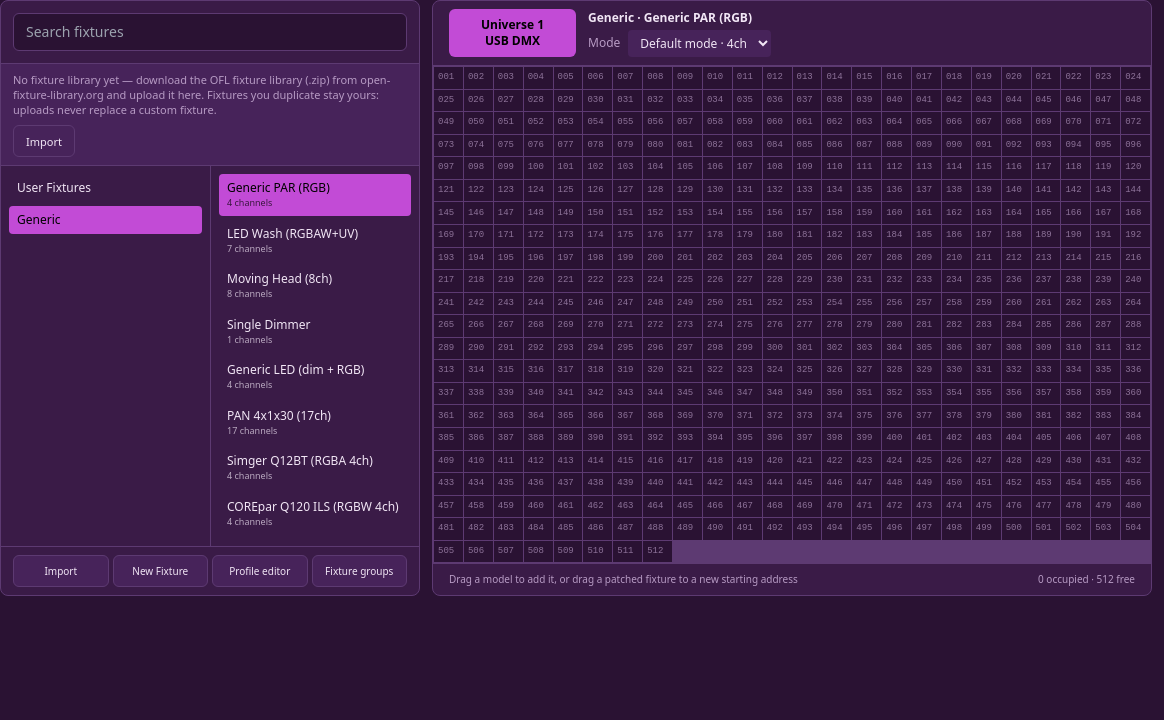
Test case: PatchPanel fixture library › User Fixtures shows a hint when there are no custom fixtures yet
The image size is (1164, 720).
Click the button "User Fixtures".
click(106, 188)  # box x1=9 y1=174 x2=202 y2=202
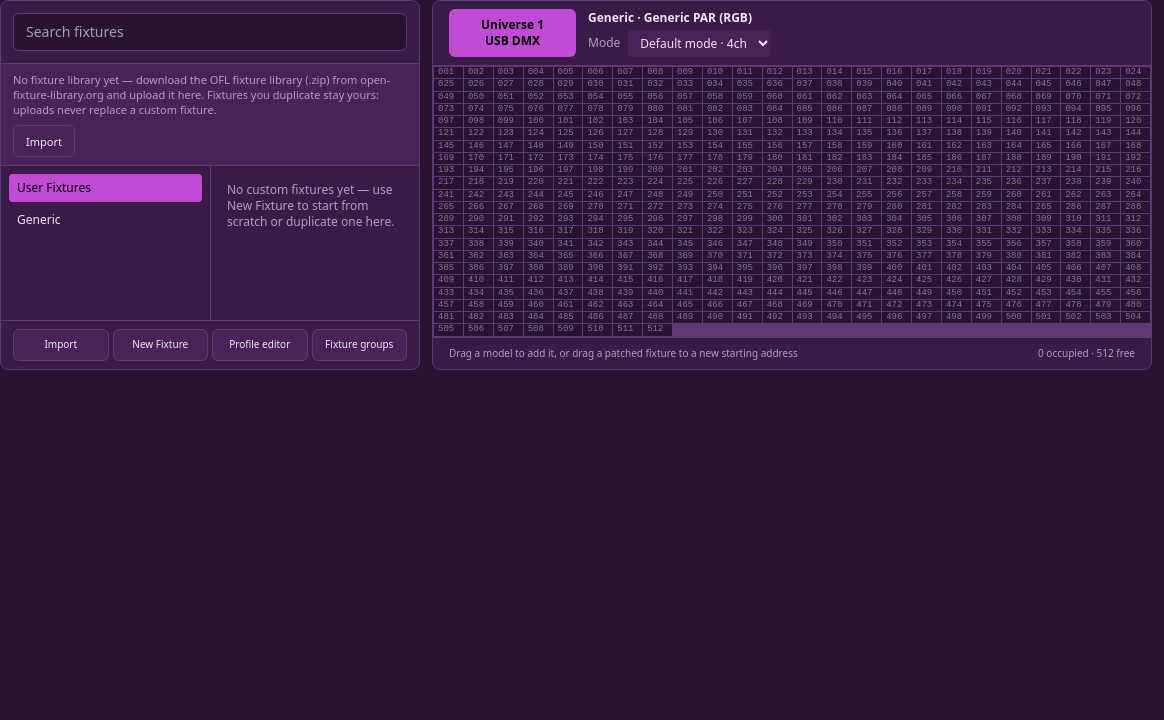
Expected: the text "No custom fixtures yet" is shown, x1=227 y1=181 x2=394 y2=230
